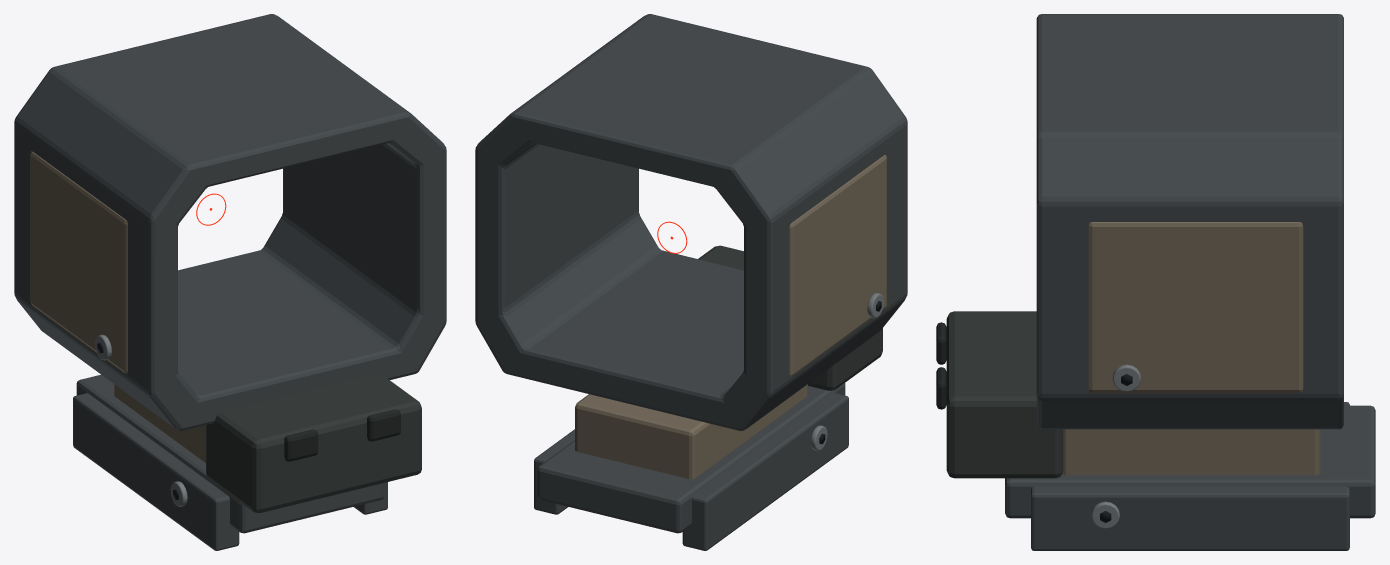
The model's file is holo.glb.
The picture shows the model from 3 angles, left to right: view 1: azimuth 30°, elevation 25°; view 2: azimuth 150°, elevation 25°; view 3: azimuth 270°, elevation 25°; orthographic projection. The views are drawn at different scales.
Parts seen in each view (by area): view 1: holo_metal, holo_Rear_battery_shelf, holo_bronze, holo_rubber, holo_steel; view 2: holo_metal, holo_bronze, holo_Rear_battery_shelf, holo_steel; view 3: holo_metal, holo_bronze, holo_Rear_battery_shelf, holo_steel, holo_rubber.
Part boxes in pixels (box(x1,y1,x2,y2)): holo_metal: box(14, 14, 446, 550); holo_Rear_battery_shelf: box(206, 374, 421, 512); holo_bronze: box(30, 151, 205, 462); holo_rubber: box(284, 409, 400, 461); holo_steel: box(95, 334, 187, 506); holo_metal: box(475, 14, 907, 550); holo_bronze: box(575, 155, 886, 479); holo_Rear_battery_shelf: box(698, 245, 882, 390); holo_steel: box(810, 292, 883, 450); holo_metal: box(1005, 14, 1375, 550); holo_bronze: box(1062, 222, 1320, 475); holo_Rear_battery_shelf: box(946, 311, 1063, 478); holo_steel: box(1091, 364, 1141, 528); holo_rubber: box(936, 322, 946, 409).
Size of the model in its own units: 0.077 by 0.09 by 0.083.
